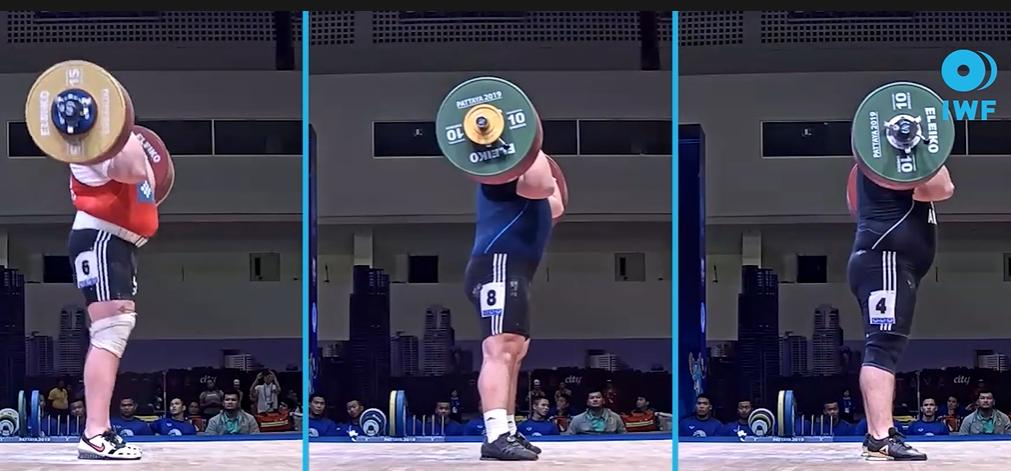Barbell: (49, 89, 104, 139), (458, 101, 509, 153), (880, 110, 927, 155)
